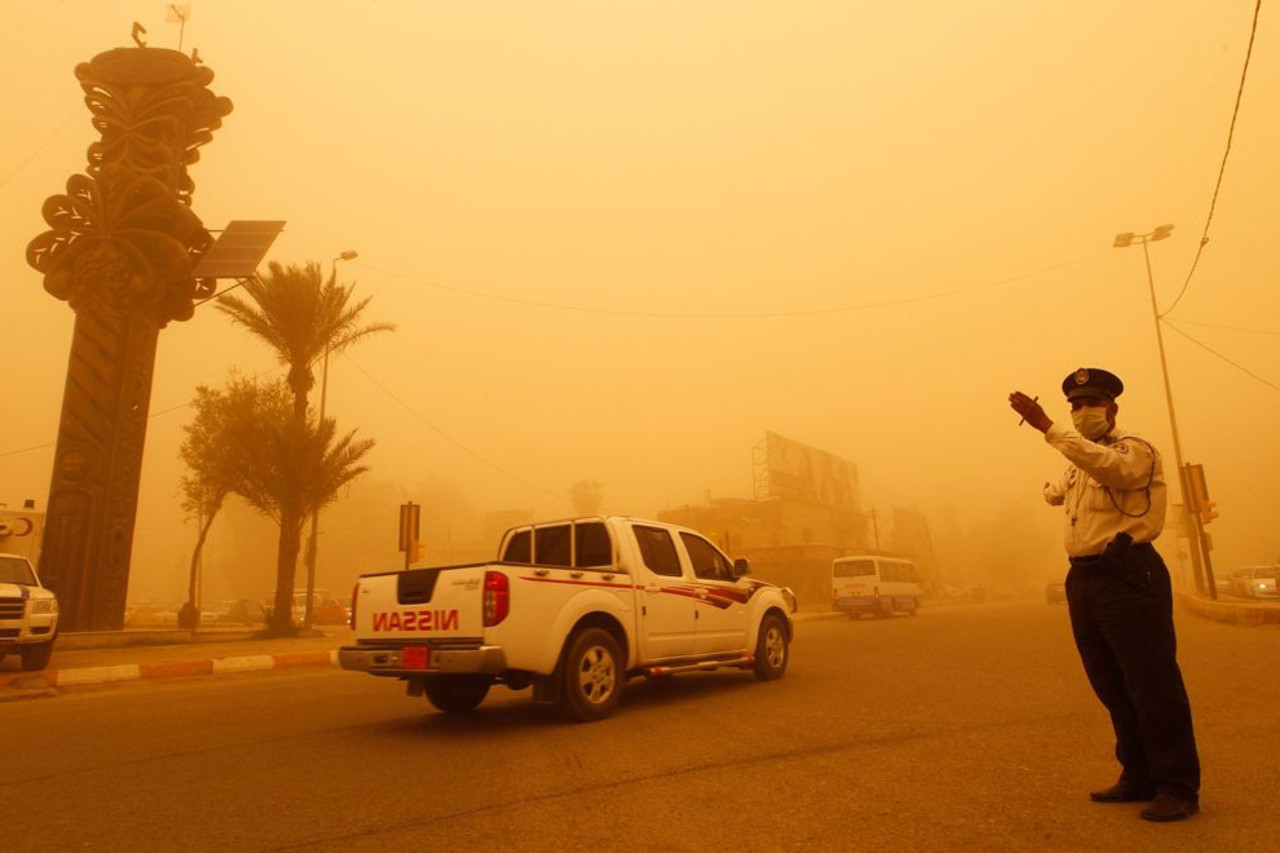car: (0, 553, 59, 672), (829, 553, 922, 619), (1247, 563, 1278, 599), (1044, 579, 1066, 605)
person: (1016, 367, 1200, 810)
truck: (337, 511, 801, 718)
